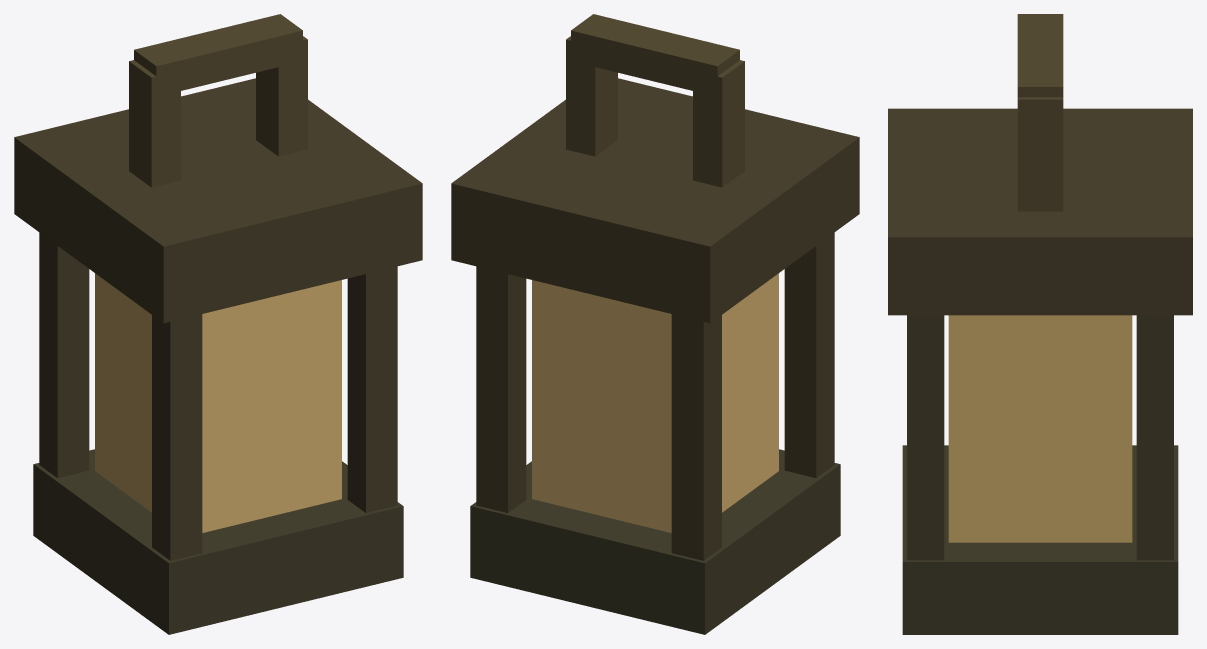
The model's file is lantern.glb.
3 views of the same model, side by side, from view 1: azimuth 30°, elevation 25°; view 2: azimuth 150°, elevation 25°; view 3: azimuth 270°, elevation 25° (orthographic).
Parts seen in each view (by area): view 1: lantern; view 2: lantern; view 3: lantern.
Part boxes in pixels (<box>): lantern: <box>14,14,422,634</box>; lantern: <box>451,14,859,634</box>; lantern: <box>888,14,1192,634</box>.
Bounding box in the file's own units: 0.53 × 1.01 × 0.53.
